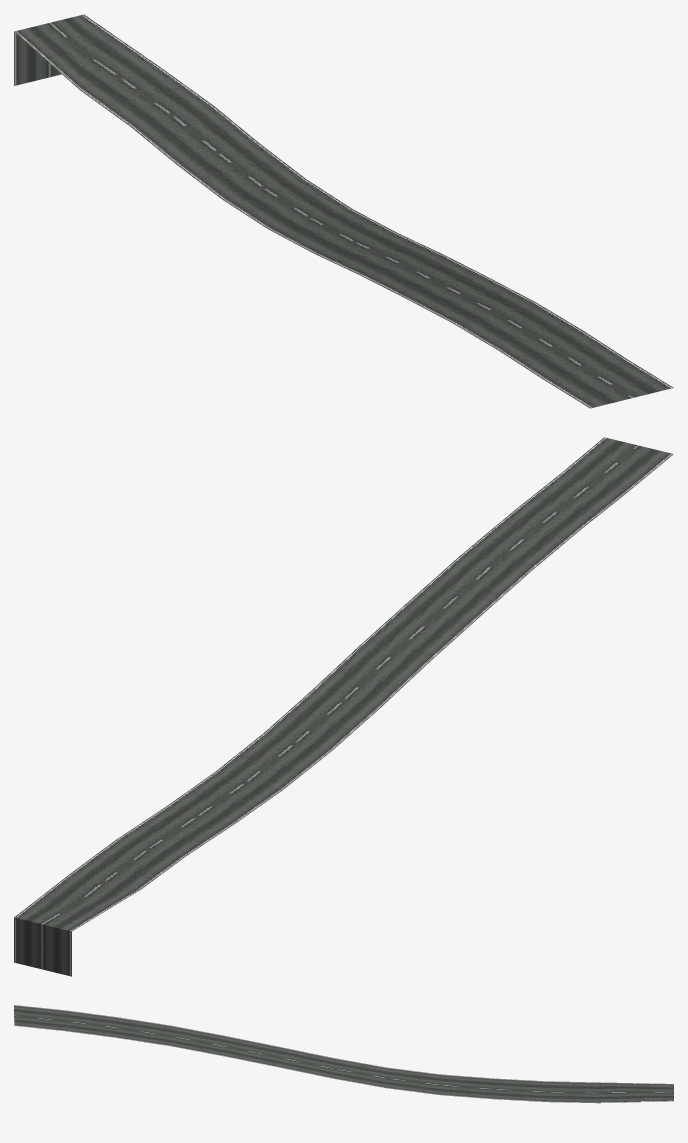
Rendered from lodcuntwroad52.obj.
3 views of the same model, one above another, from view 1: azimuth 30°, elevation 25°; view 2: azimuth 150°, elevation 25°; view 3: azimuth 270°, elevation 25° (orthographic). The views are drawn at different scales.
Parts seen in each view (by area): view 1: LODcuntwroad52; view 2: LODcuntwroad52; view 3: LODcuntwroad52.
Boxes of the visible parts, left/top/right/bottom form: LODcuntwroad52: left=14, top=14, right=673, bottom=408; LODcuntwroad52: left=14, top=437, right=673, bottom=976; LODcuntwroad52: left=14, top=1005, right=673, bottom=1103.
Bounding box in the file's own units: 21.54 × 23.65 × 161.
1 material, 1 textured.
